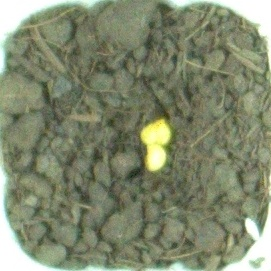chilli seed: (138, 116, 174, 147), (142, 144, 168, 173)
